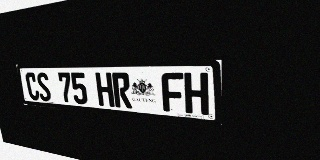5: (70, 72, 88, 105)
7: (57, 72, 74, 104)
C: (25, 72, 40, 101)
F: (161, 73, 185, 113)
H: (184, 73, 209, 115), (95, 73, 115, 107)
R: (112, 73, 132, 109)
S: (36, 72, 52, 102)
